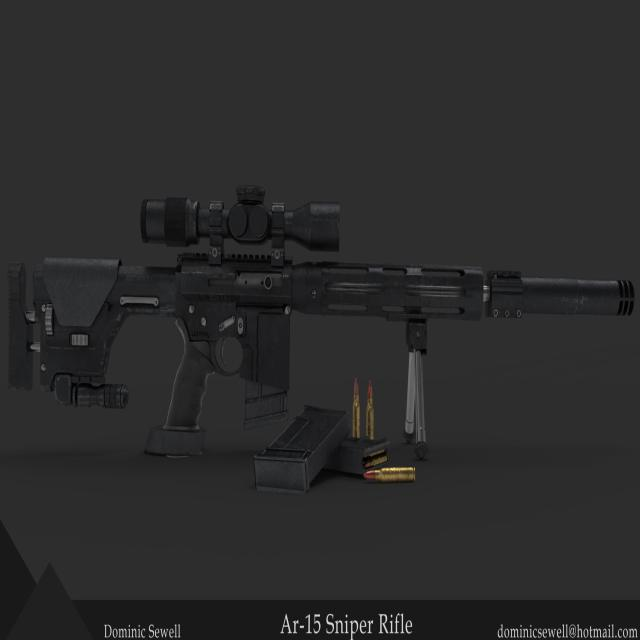Rifle: (9, 184, 635, 459)
